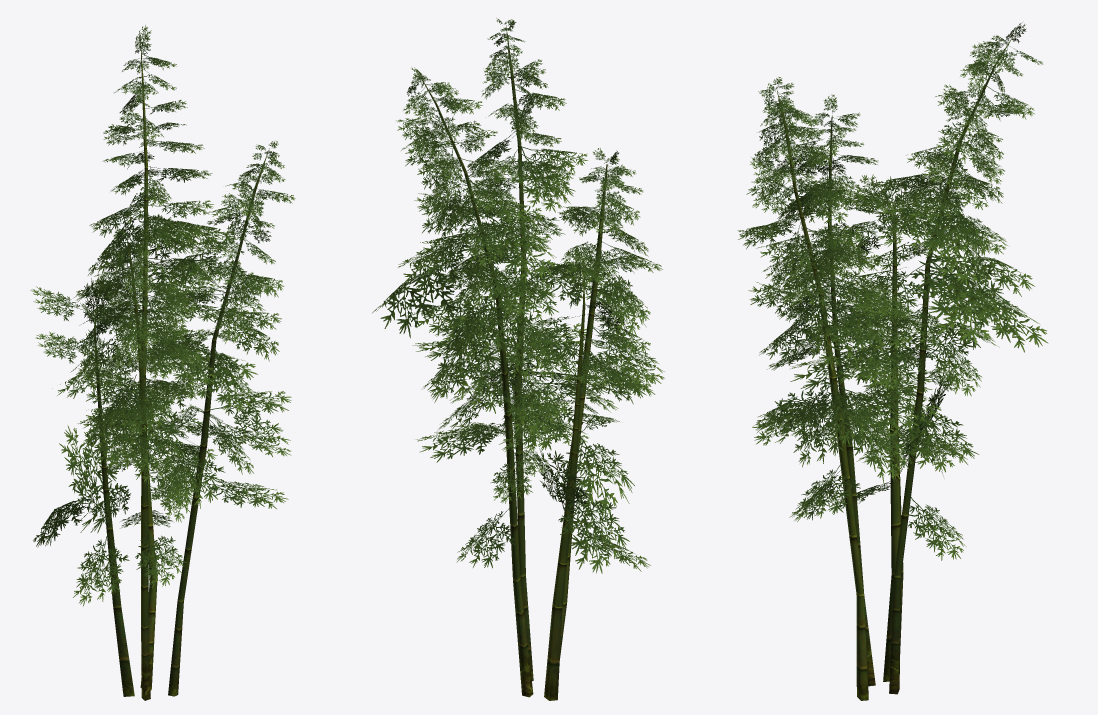
File: xt_zhuzi01.FBX
3 views of the same model, side by side, from view 1: azimuth 30°, elevation 25°; view 2: azimuth 150°, elevation 25°; view 3: azimuth 270°, elevation 25° (orthographic). The views are drawn at different scales.
Parts seen in each view (by area): view 1: xt_zhuzi01; view 2: xt_zhuzi01; view 3: xt_zhuzi01.
Boxes of the visible parts, x1,y1,x2,y2 form: xt_zhuzi01: (30, 25, 295, 700); xt_zhuzi01: (372, 18, 664, 700); xt_zhuzi01: (737, 22, 1048, 700).
Bounding box in the file's own units: 710 × 1596 × 747.
